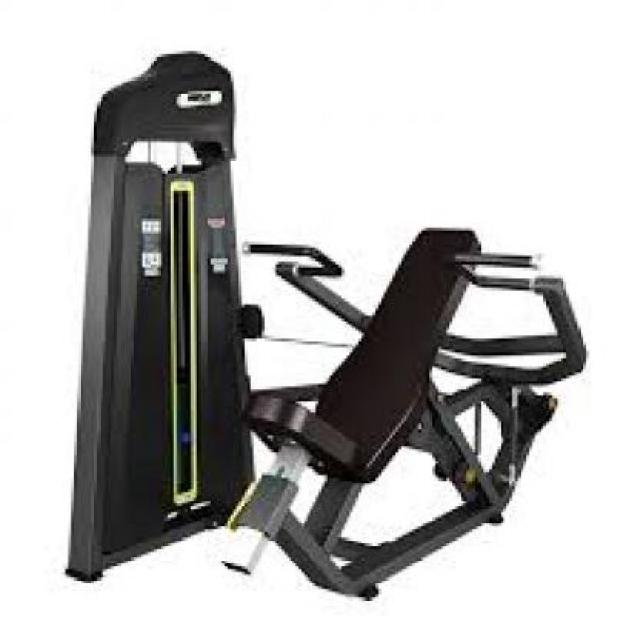shoulder press machine: (62, 51, 592, 600)
